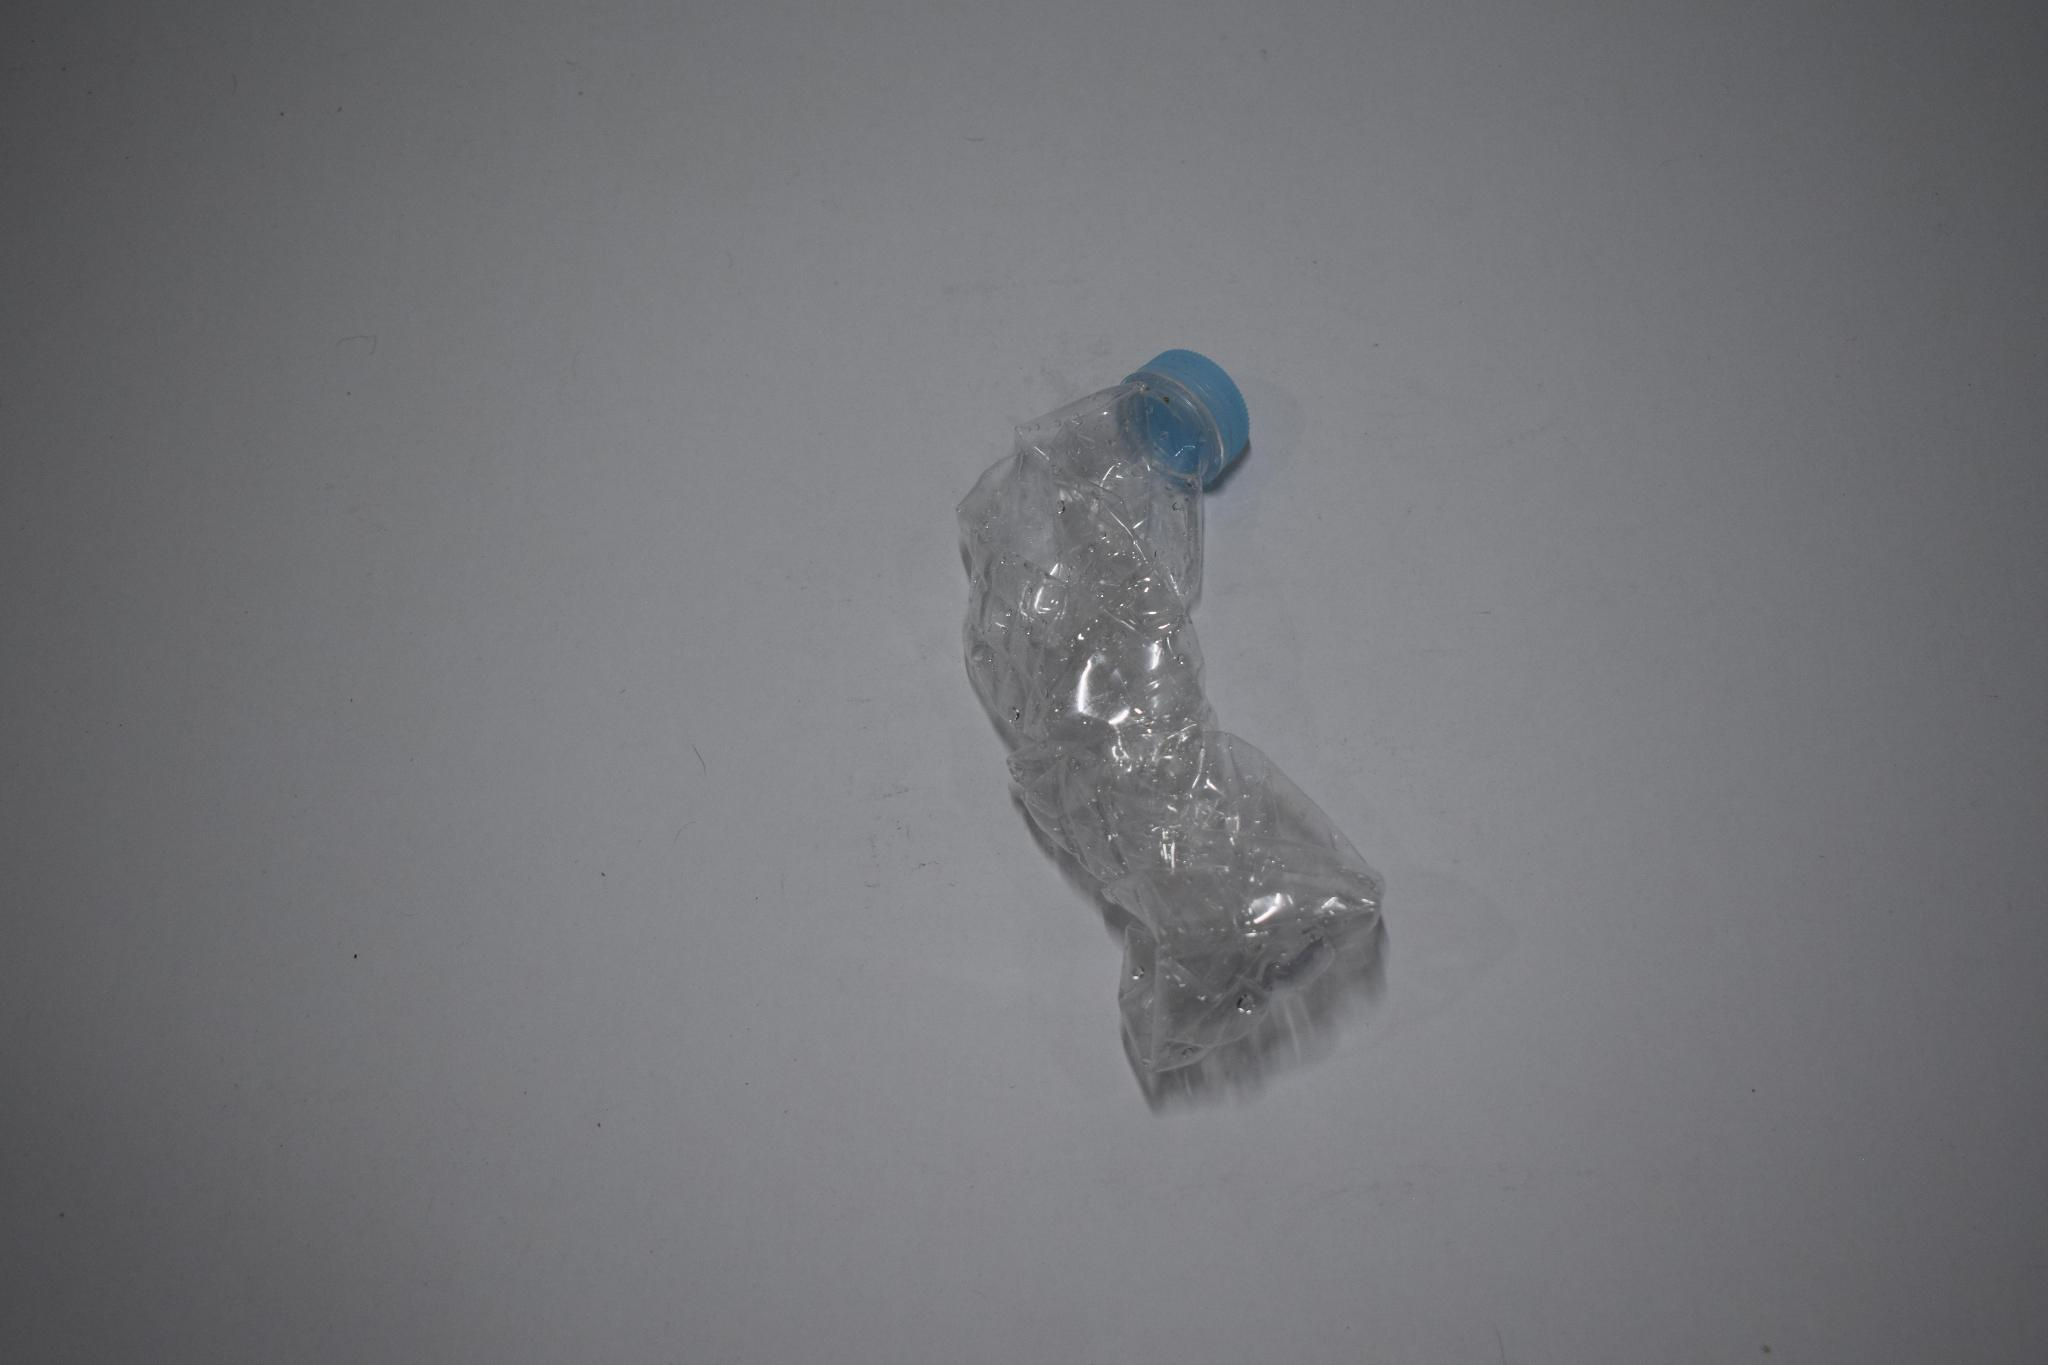bottle: (947, 309, 1402, 1100)
